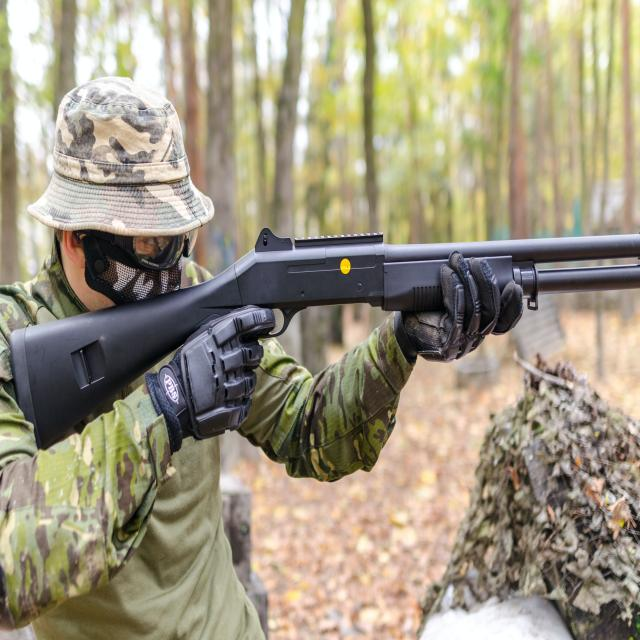ShotGun: (5, 229, 640, 452)
